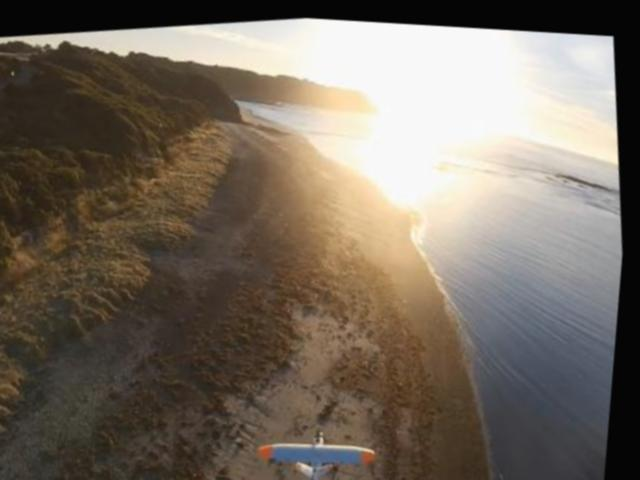uav: (258, 417, 388, 480)
